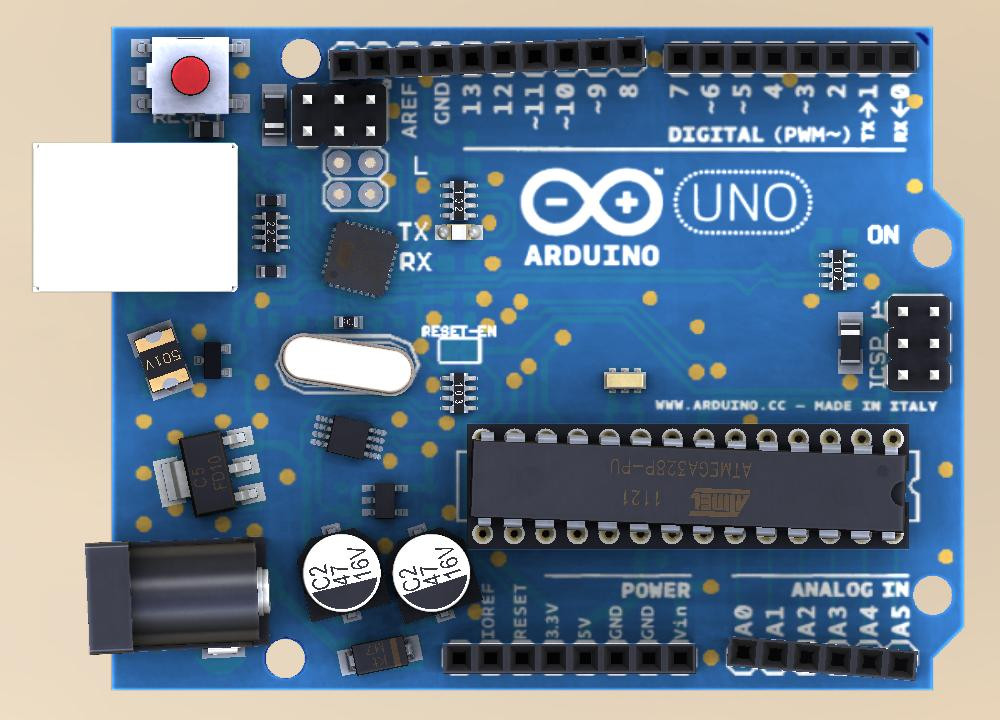16MHz Crystal: (604, 364, 647, 397)
47uF CAP: (291, 522, 389, 625), (391, 526, 480, 623)
ATMEL328P: (467, 423, 913, 554)
ATMega16u2: (316, 216, 400, 299)
CD1206: (257, 80, 291, 147), (834, 313, 867, 376)
Crystal: (274, 333, 418, 400)
Fuse: (129, 316, 191, 402)
LED: (436, 221, 483, 245)
LMV358: (354, 479, 415, 524)
M7 diode: (333, 633, 426, 681)
PIN Header: (291, 81, 391, 147), (886, 293, 951, 392)
Ports: (329, 36, 646, 76), (666, 34, 921, 80), (440, 639, 699, 680), (726, 639, 920, 681)
Power: (80, 536, 272, 662)
Regulator: (130, 419, 272, 533)
Reset: (129, 33, 254, 120)
Resistor: (257, 259, 287, 282), (337, 311, 367, 333), (193, 119, 223, 140), (257, 190, 287, 208)
Resistor pack: (249, 210, 291, 257), (816, 250, 861, 293), (440, 370, 477, 419), (440, 177, 480, 222)
SSOT3: (191, 341, 234, 379)
USB: (34, 140, 240, 290)
lp2985: (306, 409, 389, 463)
